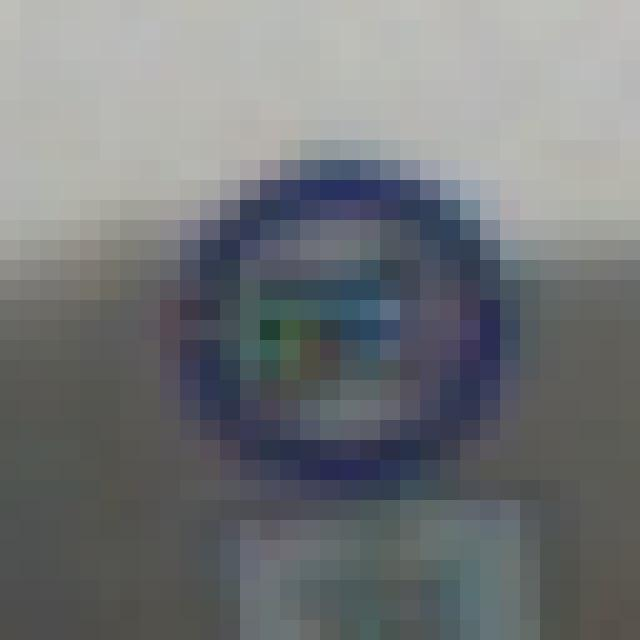SPEED-LIMIT-80: (181, 158, 513, 470)
